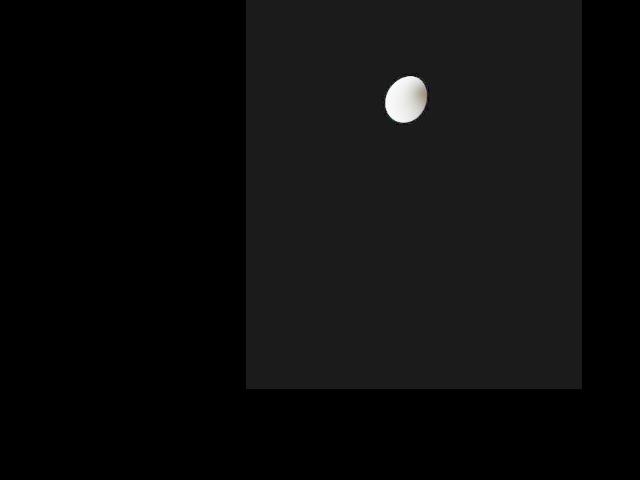egg: (385, 75, 426, 122)
